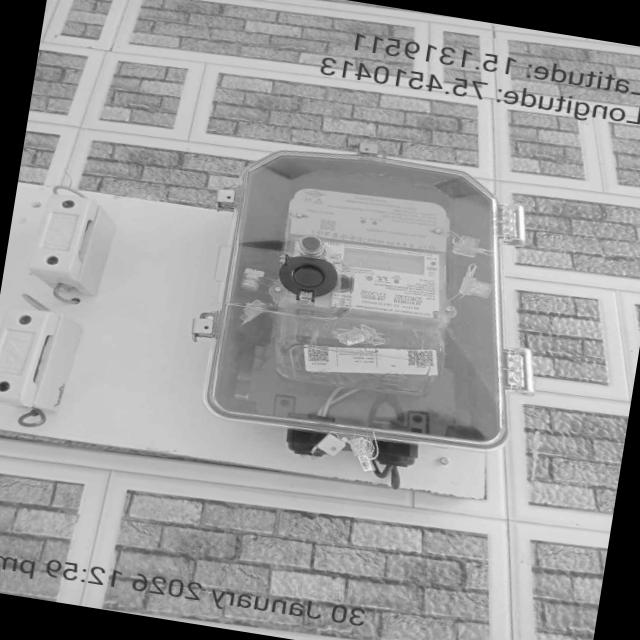meter: (269, 178, 446, 323)
